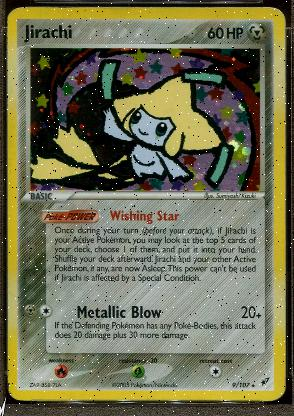Card: (4, 4, 286, 402)
Corner Wear: (5, 374, 14, 396)
Edge Wear: (40, 6, 166, 8), (6, 75, 8, 113), (6, 18, 7, 58)
